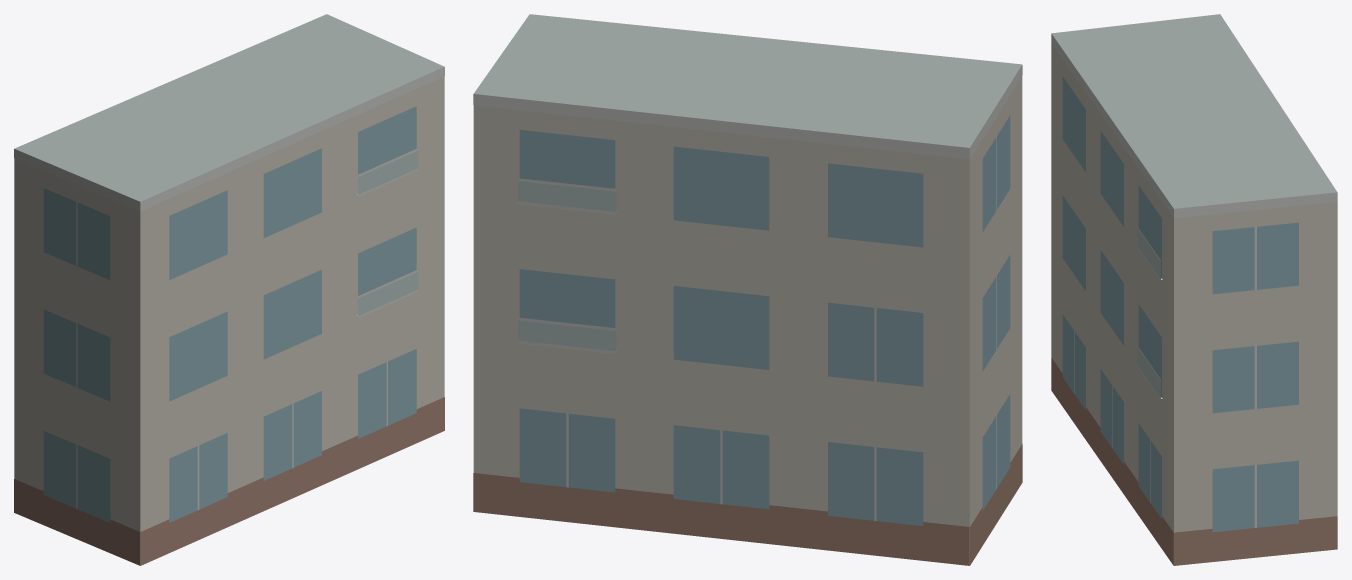
Rendered from survey-upis-32618982.glb.
The picture shows the model from 3 angles, left to right: view 1: azimuth 30°, elevation 25°; view 2: azimuth 150°, elevation 25°; view 3: azimuth 270°, elevation 25°; orthographic projection. The views are drawn at different scales.
Visible parts, largest first — view 1: survey-upis-32618982.tmp; view 2: survey-upis-32618982.tmp; view 3: survey-upis-32618982.tmp.
Part boxes in pixels (left/top/right/bottom): survey-upis-32618982.tmp: left=14, top=14, right=444, bottom=565; survey-upis-32618982.tmp: left=473, top=14, right=1022, bottom=565; survey-upis-32618982.tmp: left=1051, top=14, right=1337, bottom=565.
Size of the model in its own units: 10.72 by 9.15 by 6.66.
